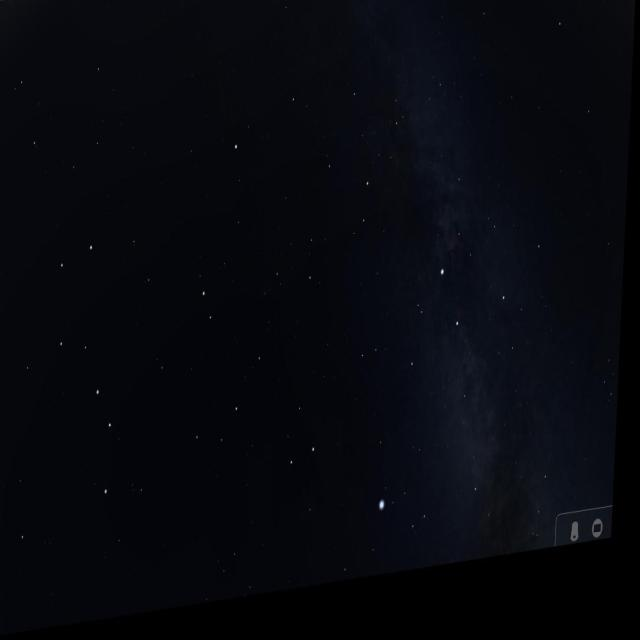cassiopeia: (310, 0, 384, 34)
cygnus: (408, 270, 517, 464)
ursa_major: (36, 234, 138, 512)
